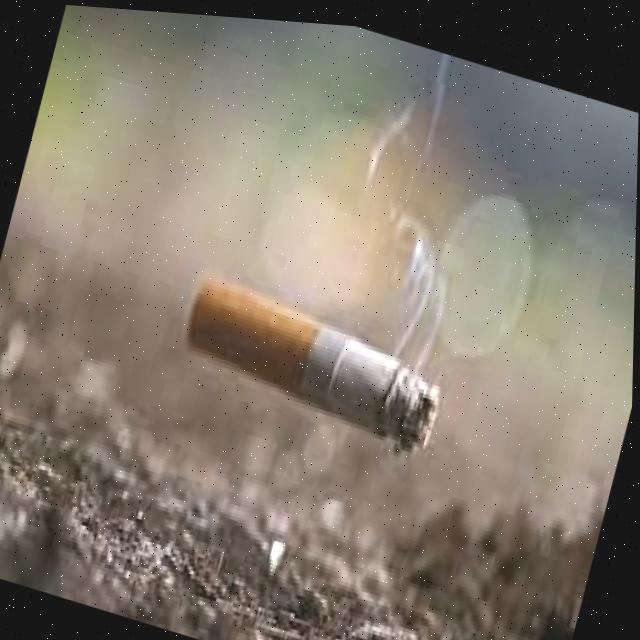cigarette: (183, 272, 439, 458)
